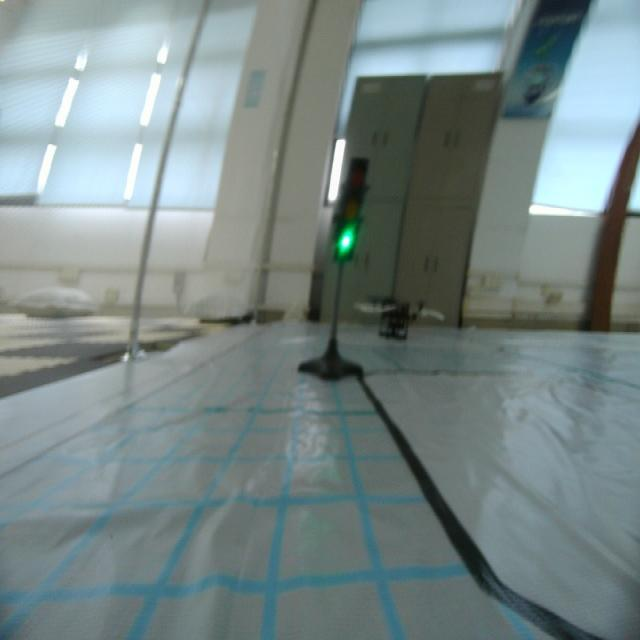green: (331, 150, 363, 262)
